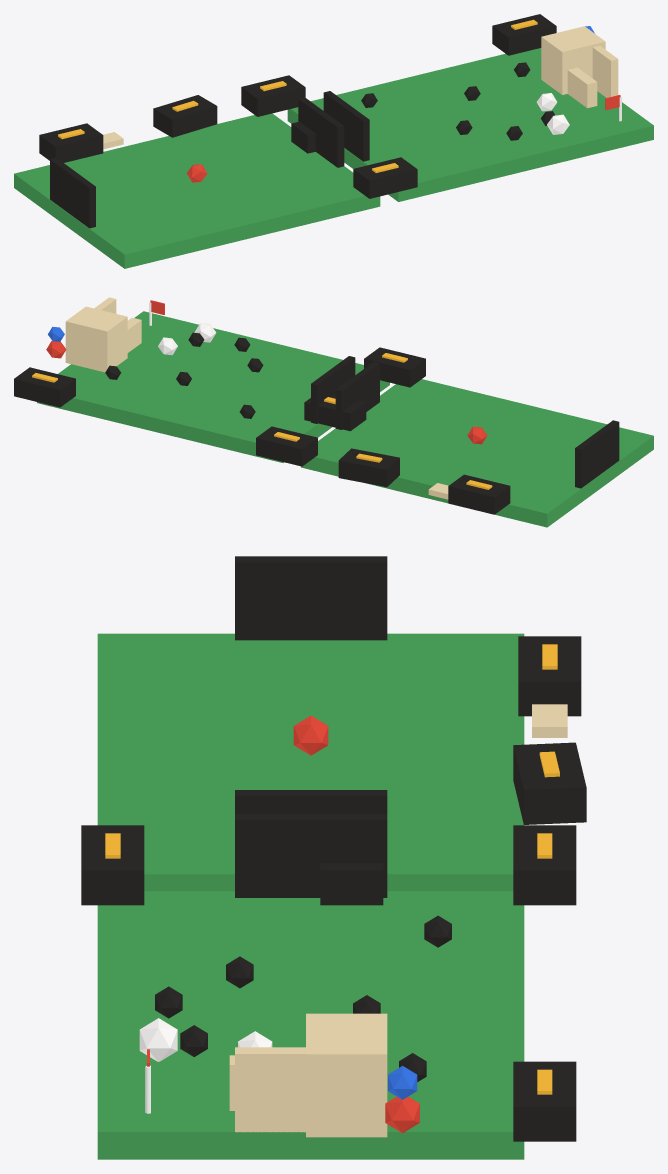
The model's file is ground.glb.
The picture shows the model from 3 angles, top to bottom: view 1: azimuth 30°, elevation 25°; view 2: azimuth 150°, elevation 25°; view 3: azimuth 270°, elevation 25°; orthographic projection. The views are drawn at different scales.
Bounding box in the file's own units: 12.02 × 1.2 × 4.97.
